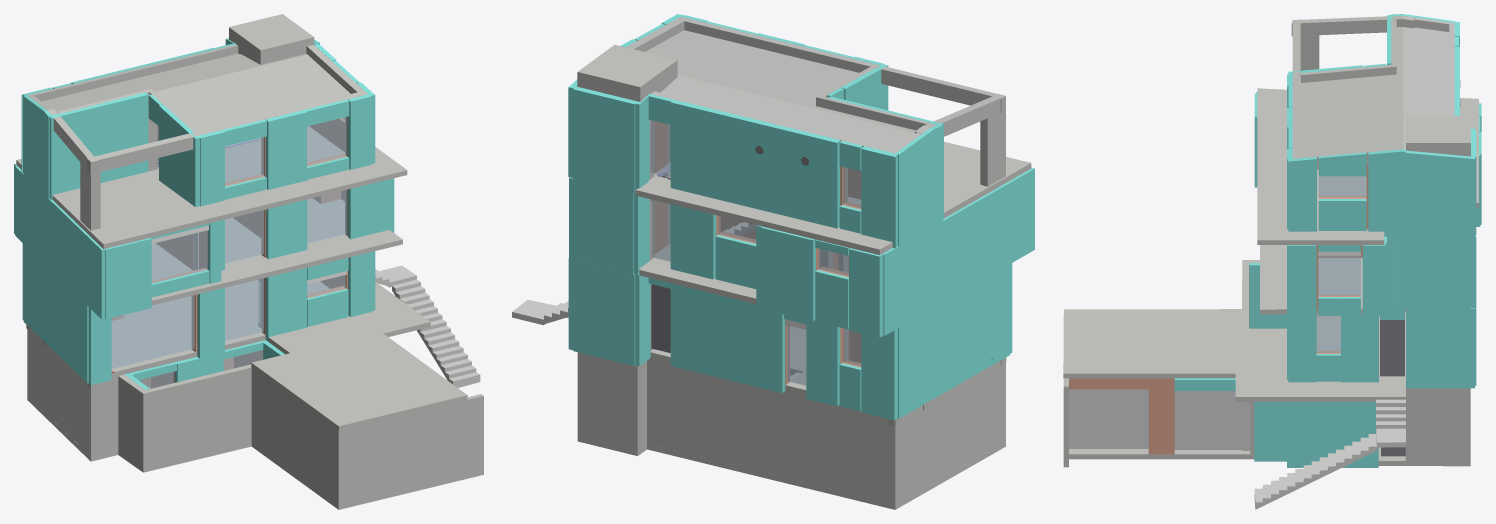
File: House_AR_ALL.glb
3 views of the same model, side by side, from view 1: azimuth 30°, elevation 25°; view 2: azimuth 150°, elevation 25°; view 3: azimuth 270°, elevation 25° (orthographic). The views are drawn at different scales.
Visible parts, largest first — view 1: AT-SB01, BS-RS01, RF-SLAB, GF-SB01, BS-RCW01, BS-RCW04, F1-SB01, F1-ET06, BS-RCW02, AT-ET07, GF-ET12, GF-EO06 (+44 smaller); view 2: AT-ET11, RF-SLAB, BS-RCW05, F1-ET06, GF-ET12, GF-ET08, AT-SB01, BS-COL07, AT-ET03, GF-ET02, F1-ET14, BS-RCW08 (+46 smaller); view 3: RF-SLAB, BS-RS01, AT-SB01, GF-SB01, AT-ET02, GF-ET01, BS-ET01, BS-COL07, BS-GD02, F1-ET13, BS-GD01, F1-SB01 (+34 smaller).
Boxes of the visible parts, left/top/right/bottom form: AT-SB01: left=16, top=126, right=407, bottom=248; BS-RS01: left=251, top=333, right=467, bottom=430; RF-SLAB: left=42, top=53, right=350, bottom=173; GF-SB01: left=111, top=280, right=430, bottom=377; BS-RCW01: left=336, top=394, right=483, bottom=504; BS-RCW04: left=146, top=364, right=251, bottom=466; F1-SB01: left=151, top=198, right=402, bottom=305; F1-ET06: left=15, top=166, right=105, bottom=319; BS-RCW02: left=251, top=368, right=336, bottom=502; AT-ET07: left=48, top=92, right=148, bottom=199; GF-ET12: left=23, top=244, right=88, bottom=383; GF-EO06: left=111, top=295, right=194, bottom=368; AT-ET11: left=670, top=99, right=840, bottom=228; RF-SLAB: left=645, top=30, right=1005, bottom=149; BS-RCW05: left=649, top=366, right=812, bottom=483; F1-ET06: left=882, top=167, right=1034, bottom=335; GF-ET12: left=899, top=264, right=1009, bottom=418; GF-ET08: left=670, top=283, right=785, bottom=392; AT-SB01: left=635, top=141, right=1031, bottom=254; BS-COL07: left=577, top=352, right=649, bottom=450; AT-ET03: left=573, top=86, right=637, bottom=193; GF-ET02: left=573, top=260, right=635, bottom=365; F1-ET14: left=569, top=177, right=633, bottom=274; BS-RCW08: left=928, top=373, right=987, bottom=484; RF-SLAB: left=1300, top=27, right=1449, bottom=169; BS-RS01: left=1063, top=309, right=1242, bottom=378; AT-SB01: left=1257, top=88, right=1478, bottom=244; GF-SB01: left=1235, top=313, right=1405, bottom=401; AT-ET02: left=1406, top=150, right=1474, bottom=237; GF-ET01: left=1406, top=308, right=1474, bottom=388; BS-ET01: left=1287, top=402, right=1378, bottom=467; BS-COL07: left=1405, top=388, right=1470, bottom=461; BS-GD02: left=1069, top=389, right=1148, bottom=448; F1-ET13: left=1407, top=237, right=1470, bottom=308; BS-GD01: left=1174, top=391, right=1250, bottom=449; F1-SB01: left=1260, top=245, right=1362, bottom=314.
Bounding box in the file's own units: 16.54 × 13.2 × 15.47.
